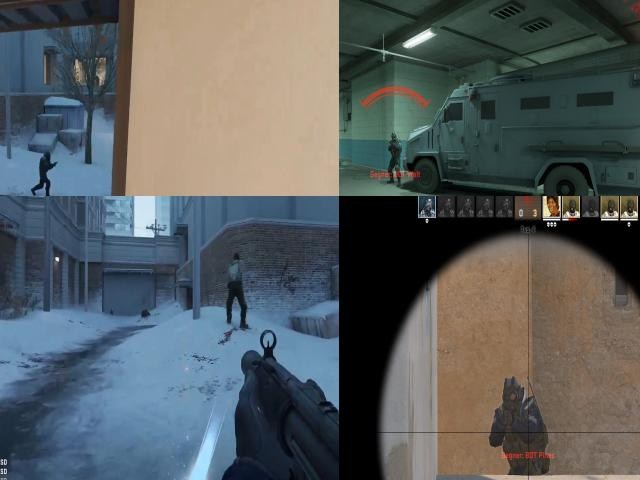CT: (500, 366, 545, 474), (388, 130, 401, 184), (37, 150, 56, 185)
CT-Head: (503, 378, 523, 410), (41, 151, 52, 165), (391, 132, 397, 140)
Dead: (138, 304, 152, 318)
T: (224, 253, 247, 291)
T-Head: (232, 252, 242, 268)
